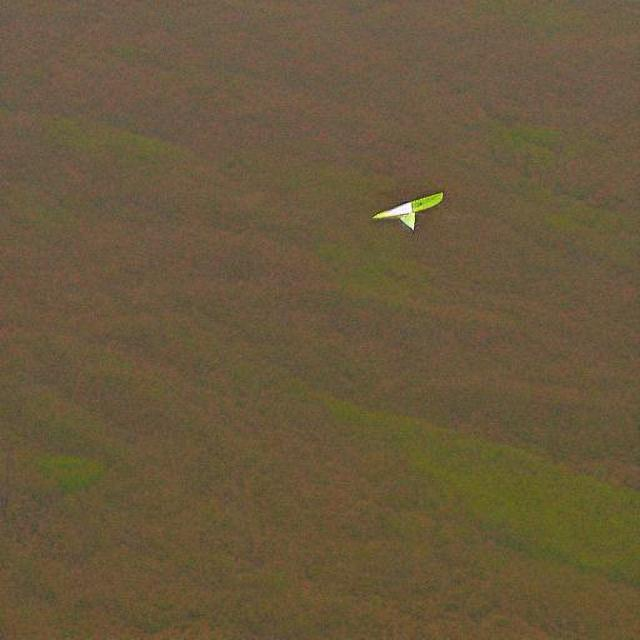floating object: (371, 195, 445, 231)
